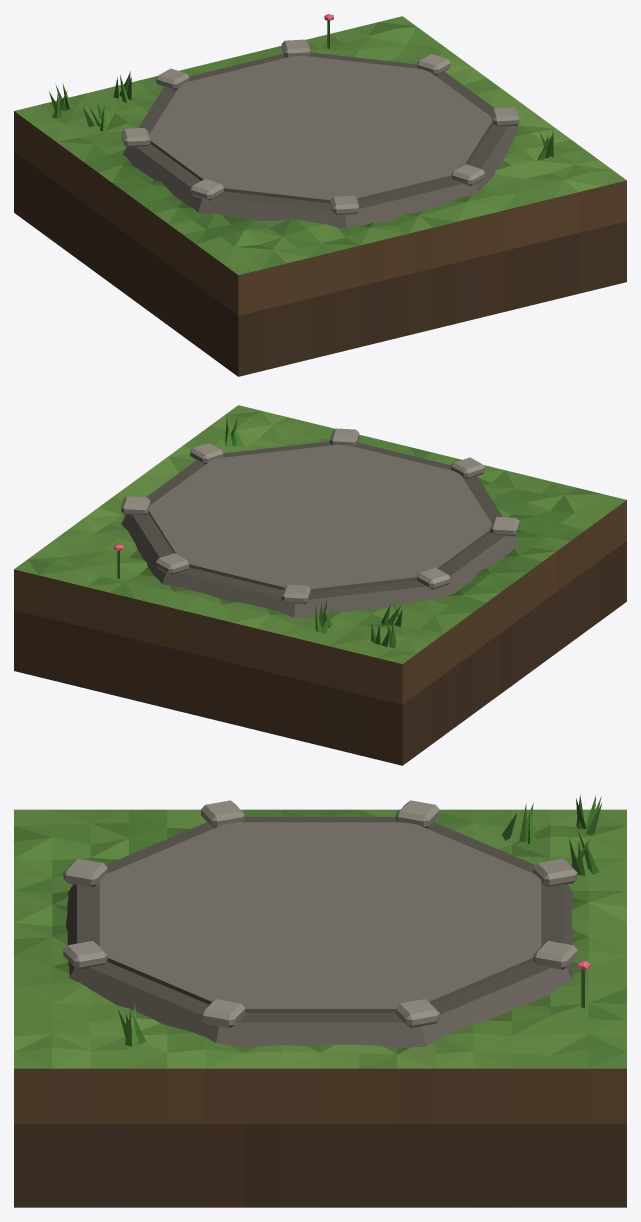
File: plot.glb
3 renders of one model, top to bottom at view 1: azimuth 30°, elevation 25°; view 2: azimuth 150°, elevation 25°; view 3: azimuth 270°, elevation 25°, orthographic. The views are drawn at different scales.
Visible parts, largest first — view 1: Plot; view 2: Plot; view 3: Plot.
Boxes of the visible parts, box(x1,y1,x2,y2) form: Plot: box(14, 14, 626, 376); Plot: box(14, 405, 626, 765); Plot: box(14, 794, 626, 1207).
Size of the model in its own units: 2 by 0.6725 by 2.
